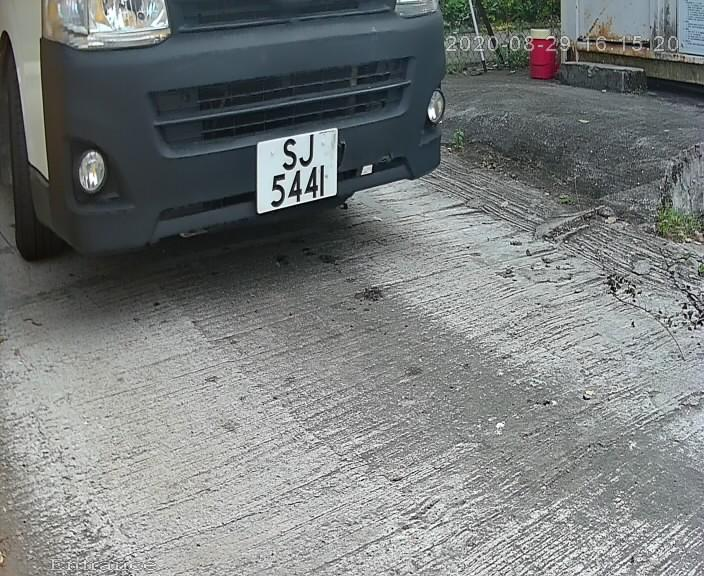License Plate: (246, 121, 346, 222)
